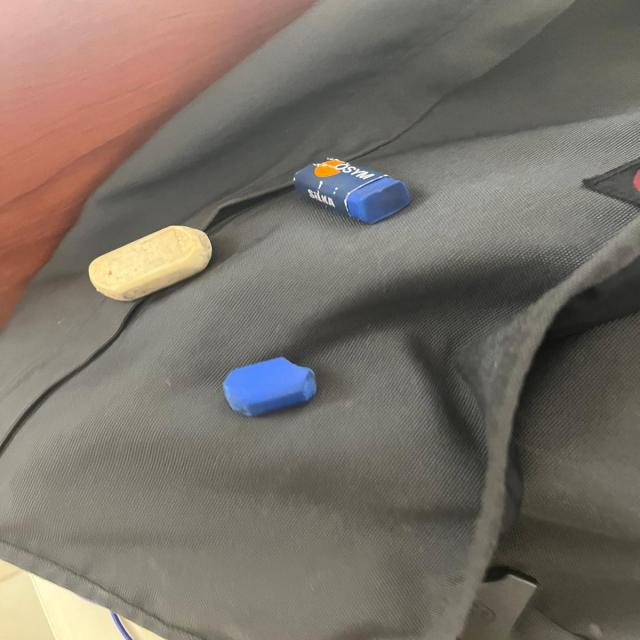eraser: (84, 221, 234, 305), (290, 150, 404, 224), (209, 353, 336, 416)
